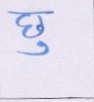u_matra: (17, 41, 51, 58)
